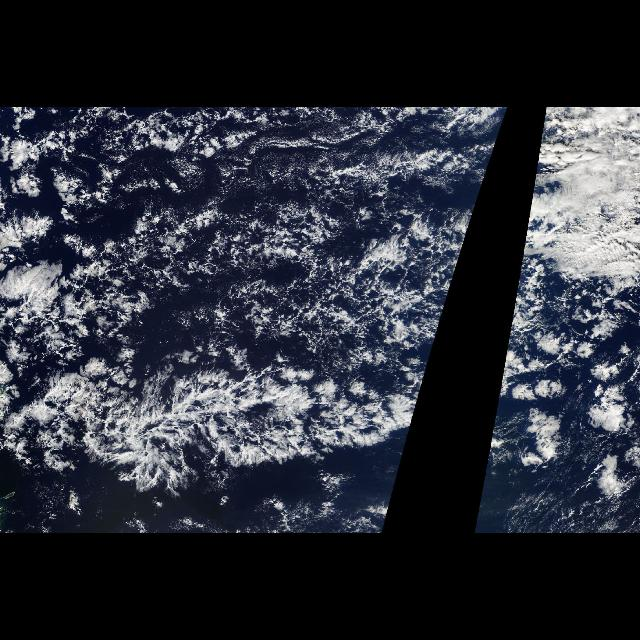Fish: (0, 323, 440, 507)
Gravel: (4, 109, 436, 361)
Sugar: (5, 359, 393, 503)
